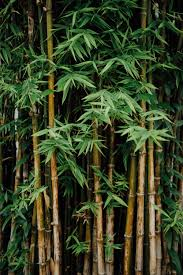bamboo: (16, 16, 168, 261)
